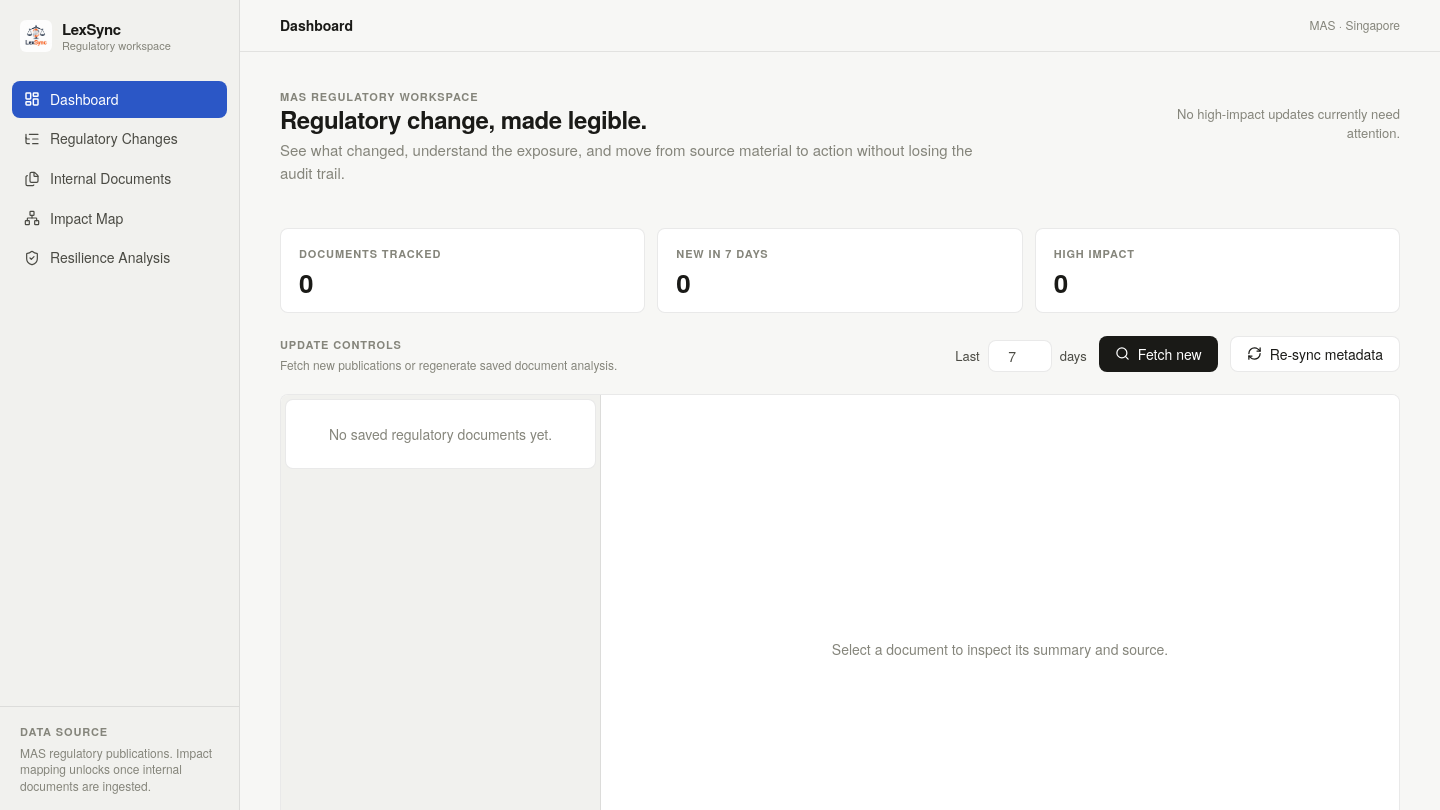
shows a lookback-specific empty state after a successful scrape
Check: the text "No saved regulatory documents yet." is shown, box top-left (285, 399), bottom-right (596, 469)
What coordinates should you click on to do the following:
click the button "Fetch new"
I would click on:
 (1158, 354)
Its box is top-left (1099, 336), bottom-right (1218, 372).
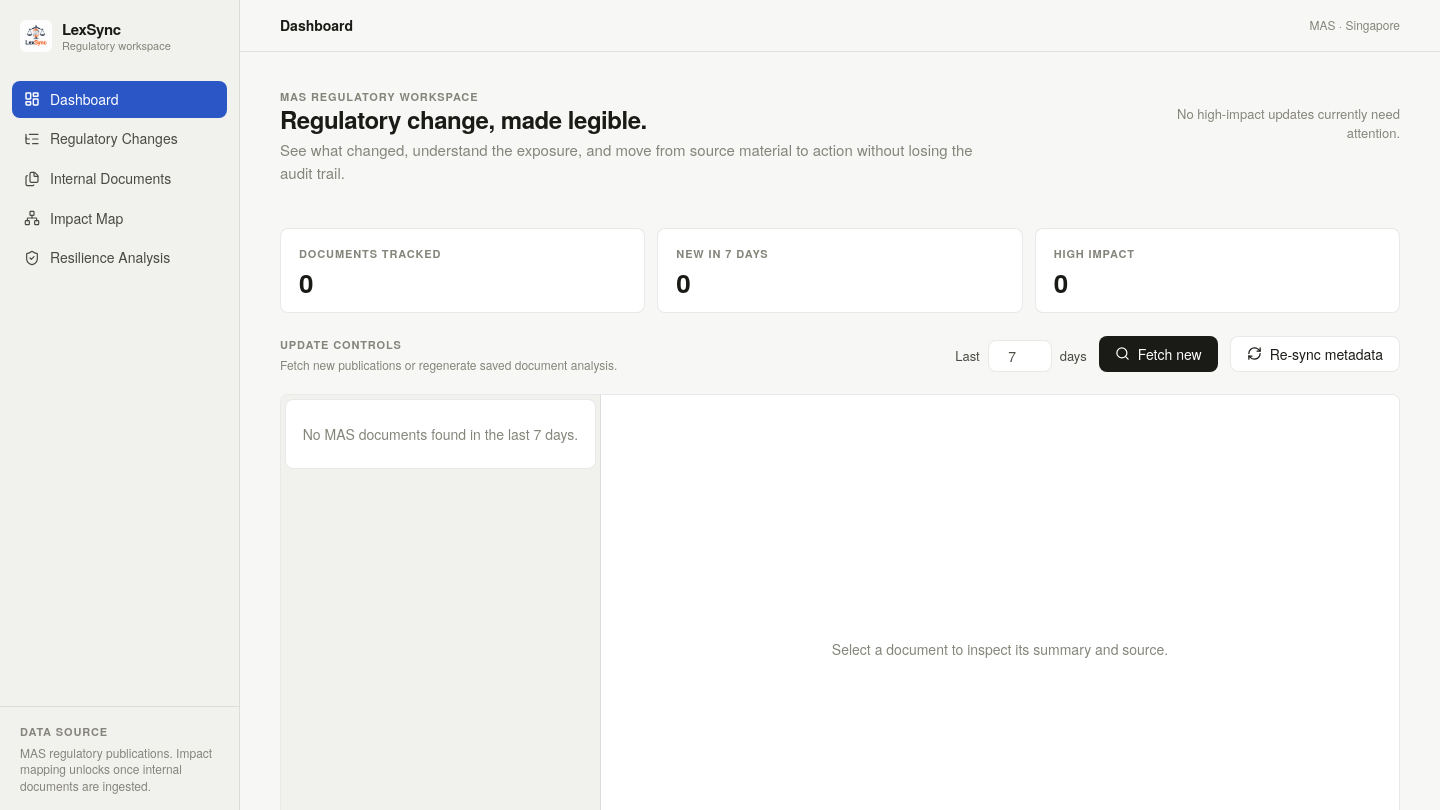
Check: the text "No MAS documents found in the last 7 days." is shown, box top-left (285, 399), bottom-right (596, 469)
